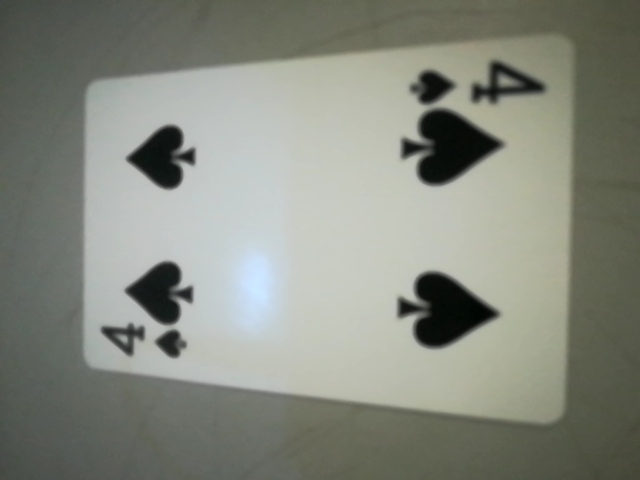ht 4: (389, 54, 563, 125)
